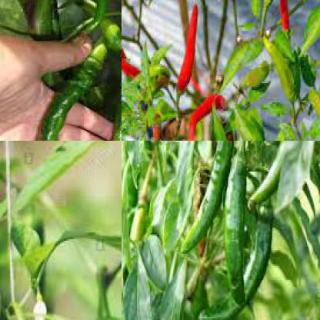green_chilli: (197, 216, 276, 320), (181, 141, 235, 254), (39, 45, 101, 140), (247, 141, 316, 212), (87, 23, 121, 140), (226, 156, 250, 308), (260, 36, 296, 102), (129, 189, 151, 250), (308, 88, 319, 140), (121, 105, 132, 124)
